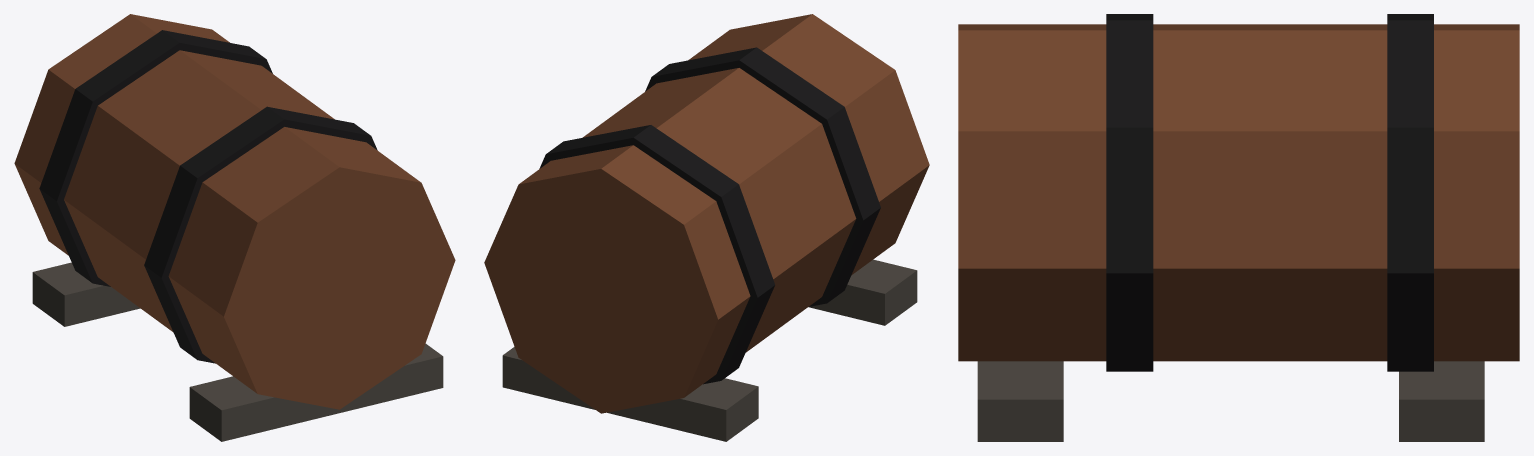
Rendered from salvage_drum.glb.
The picture shows the model from 3 angles, left to right: view 1: azimuth 30°, elevation 25°; view 2: azimuth 150°, elevation 25°; view 3: azimuth 270°, elevation 25°; orthographic projection. The views are drawn at different scales.
Size of the model in its own units: 0.244 by 0.247 by 0.36.
